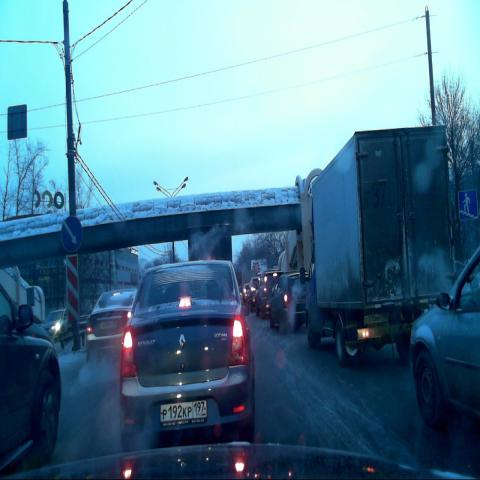6_7: (456, 185, 478, 223)
